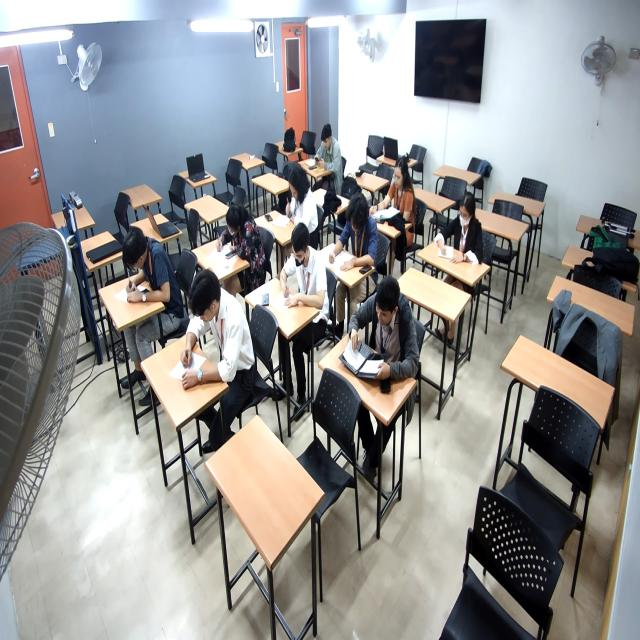read: (169, 278, 243, 396), (343, 285, 411, 404), (323, 202, 379, 285), (121, 230, 173, 319), (276, 227, 325, 320), (434, 191, 484, 272), (208, 205, 263, 275), (362, 163, 418, 229), (272, 178, 313, 233), (309, 130, 340, 181)
